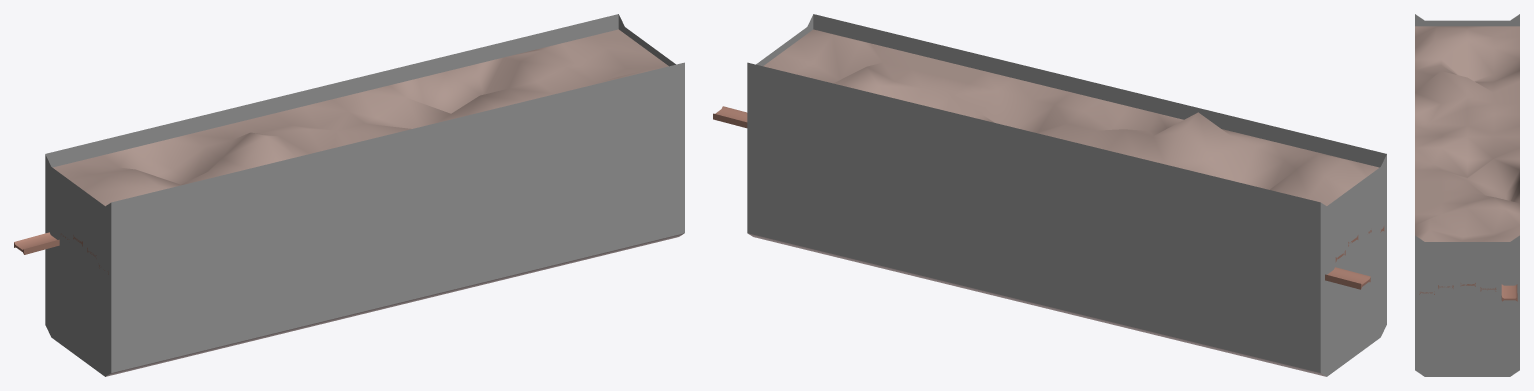
The model's file is r_Tunnel.fbx.
3 renders of one model, left to right at view 1: azimuth 30°, elevation 25°; view 2: azimuth 150°, elevation 25°; view 3: azimuth 270°, elevation 25°, orthographic. The views are drawn at different scales.
Visible parts, largest first — view 1: pPlane1, pPlane2, pCube3; view 2: pPlane1, pPlane2, pCube3; view 3: pPlane2, pPlane1, pCube3.
Part boxes in pixels (x1,y1,x2,y2): pPlane1: (45, 14, 684, 376); pPlane2: (53, 29, 668, 206); pCube3: (14, 232, 59, 254); pPlane1: (747, 14, 1386, 376); pPlane2: (763, 29, 1379, 205); pCube3: (713, 106, 1370, 289); pPlane2: (1415, 26, 1519, 241); pPlane1: (1415, 14, 1519, 376); pCube3: (1501, 284, 1517, 301).
Bounding box in the file's own units: 22.49 × 6.36 × 4.
